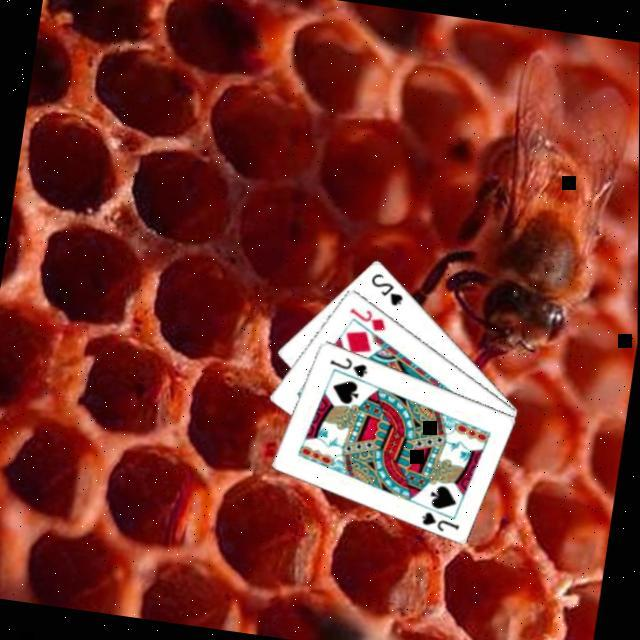2S: (366, 267, 410, 308)
JD: (346, 302, 393, 334)
JS: (326, 350, 374, 379), (418, 506, 466, 534)
